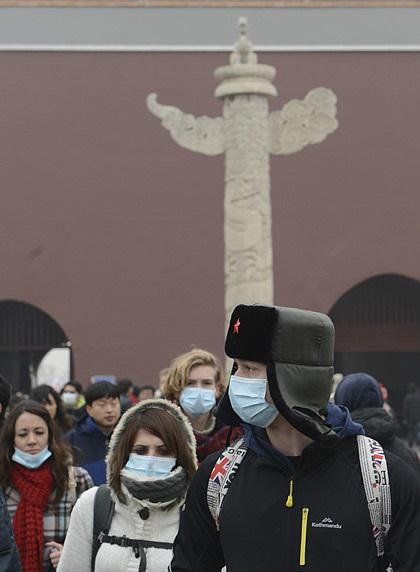NONE: (95, 398, 121, 425)
OK: (225, 352, 296, 423), (122, 435, 178, 491), (182, 377, 219, 417), (62, 388, 80, 407)
WRONG: (11, 424, 51, 464)
